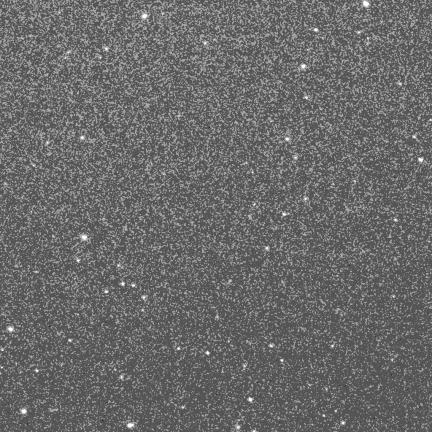blob: (363, 0, 369, 7), (21, 408, 27, 415), (127, 423, 134, 428), (8, 326, 13, 332), (269, 343, 275, 348), (81, 235, 87, 240), (142, 14, 148, 19), (301, 64, 306, 69), (68, 339, 73, 343), (265, 246, 269, 251), (105, 47, 109, 52), (249, 397, 253, 402), (142, 295, 147, 299), (304, 197, 308, 202), (419, 157, 423, 162), (341, 421, 345, 425), (236, 425, 240, 429), (314, 28, 318, 32), (206, 351, 210, 355), (294, 156, 298, 160), (281, 359, 285, 363), (285, 137, 289, 141), (121, 282, 125, 286), (394, 218, 397, 222), (81, 136, 84, 140), (105, 289, 108, 293), (35, 369, 39, 372), (323, 414, 326, 418), (177, 347, 180, 350), (204, 42, 207, 45), (132, 284, 135, 287), (77, 259, 80, 262), (283, 212, 286, 215), (331, 344, 334, 347), (335, 410, 338, 413)
